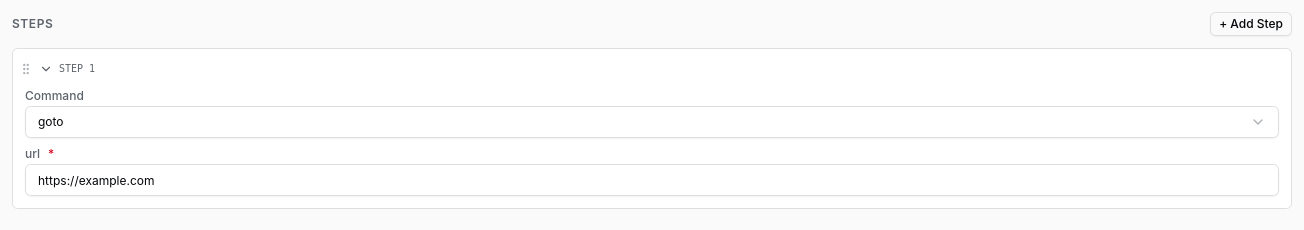
StepBuilder › command selection › writes the chosen command to the form state
Click the dropdown at (51, 122), box [25,106,1279,138]
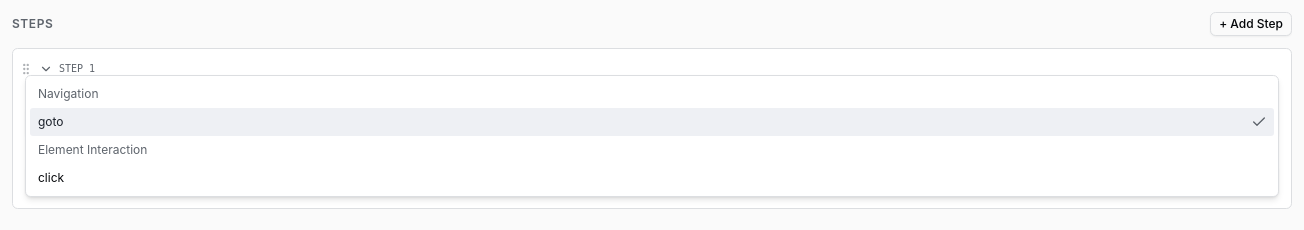
Click the option "click" at (51, 178), box [38,170,64,185]
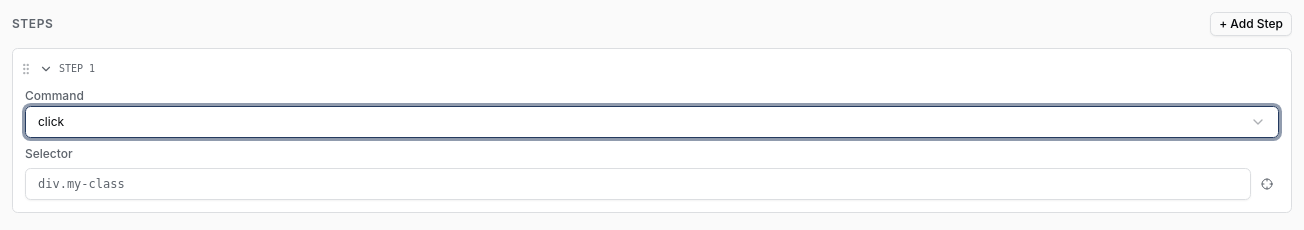
Check: the text "click" is shown, box [38,114,64,130]
